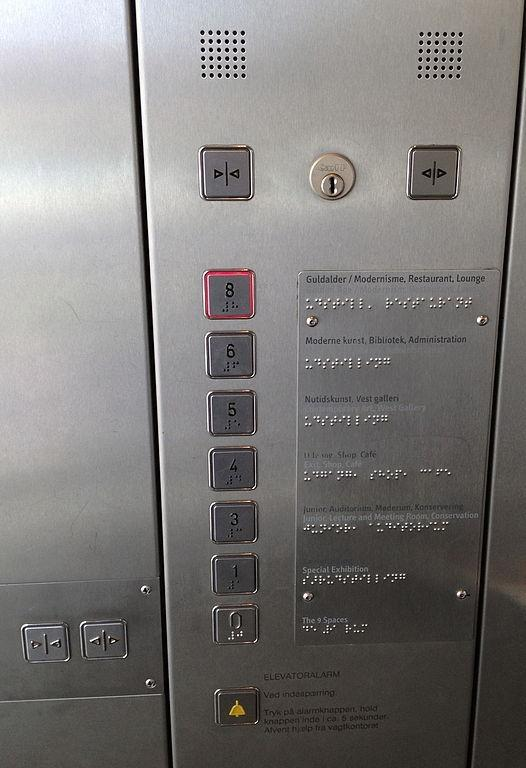0: (210, 600, 259, 645)
1: (208, 549, 259, 595)
3: (207, 496, 259, 545)
4: (206, 442, 258, 491)
5: (204, 385, 258, 436)
6: (202, 327, 258, 380)
8: (200, 264, 257, 321)
alarm: (212, 682, 261, 727)
close: (196, 141, 255, 201), (17, 618, 70, 664)
keyhole: (306, 149, 356, 201)
open: (403, 141, 462, 200), (78, 615, 128, 659)
